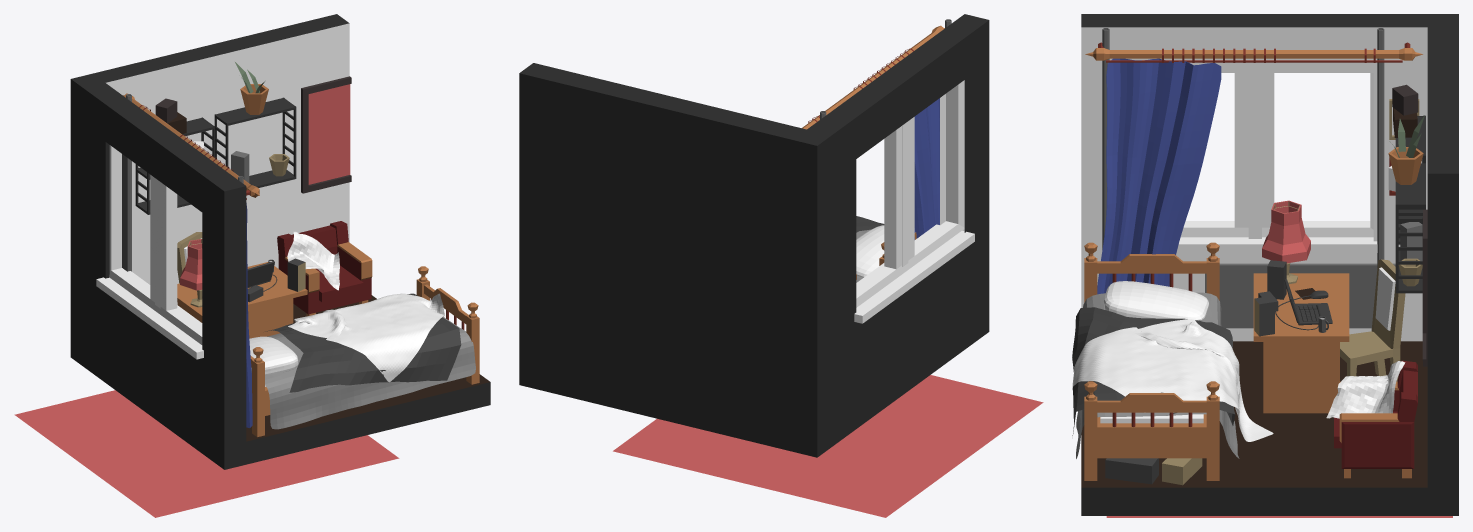
The model's file is isometric_room_new_4.glb.
3 views of the same model, side by side, from view 1: azimuth 30°, elevation 25°; view 2: azimuth 150°, elevation 25°; view 3: azimuth 270°, elevation 25° (orthographic). The views are drawn at different scales.
Visible parts, largest first — view 1: Cube_2, Cube_0, Cylinder_0, Plane.007_0, Cube.023, Cube.011_0, Cube.007_0, Cube.037_1, Cube.021_0, Cube.001_0, Cube_1, Cube.010_0 (+16 smaller); view 2: Cube_2, Cylinder_0, Cube.011_0, Cylinder.006_0, Cube.010_0, Cube.012_0, Cube.008_0, Cube_0, Cylinder.004_0; view 3: Cube_2, Cube_0, Cylinder.006_0, Cube_1, Plane.007_0, Cube.001_0, Cube.011_0, Cube.021_0, Cube.016_0, Cube.003_0, Cube.009_0, Cube.023 (+30 smaller).
Part boxes in pixels (x1,y1,x2,y2): Cube_2: [70, 14, 490, 469]; Cube_0: [106, 23, 349, 304]; Cylinder_0: [14, 239, 399, 517]; Plane.007_0: [288, 293, 444, 382]; Cube.023: [265, 293, 461, 392]; Cube.011_0: [109, 145, 202, 344]; Cube.007_0: [265, 317, 475, 429]; Cube.037_1: [308, 84, 350, 184]; Cube.021_0: [277, 221, 371, 314]; Cube.001_0: [177, 262, 307, 338]; Cube_1: [246, 295, 489, 441]; Cube.010_0: [96, 271, 203, 359]; Cube_2: [519, 14, 989, 457]; Cylinder_0: [613, 375, 1043, 517]; Cube.011_0: [856, 80, 964, 307]; Cylinder.006_0: [914, 98, 939, 239]; Cube.010_0: [854, 224, 974, 323]; Cube.012_0: [856, 225, 884, 277]; Cube.008_0: [902, 121, 908, 266]; Cube_0: [940, 94, 964, 231]; Cylinder.004_0: [802, 25, 944, 129]; Cube_2: [1081, 14, 1458, 515]; Cube_0: [1081, 27, 1427, 341]; Cylinder.006_0: [1097, 58, 1221, 294]; Cube_1: [1081, 341, 1427, 487]; Plane.007_0: [1072, 319, 1273, 441]; Cube.001_0: [1253, 273, 1349, 413]; Cube.011_0: [1180, 73, 1373, 237]; Cube.021_0: [1334, 360, 1417, 468]; Cube.016_0: [1205, 263, 1395, 328]; Cube.003_0: [1097, 414, 1206, 458]; Cube.009_0: [1097, 254, 1206, 412]; Cube.023: [1072, 307, 1235, 435].
Size of the model in its own units: 2.66 by 2.51 by 2.23.
